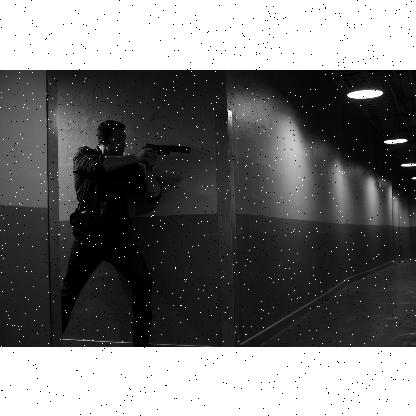gun: (142, 140, 190, 168)
